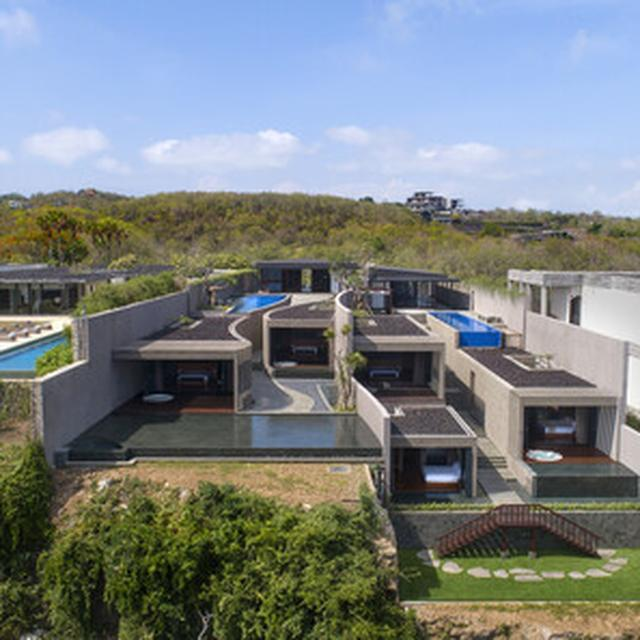building: (24, 253, 640, 506)
